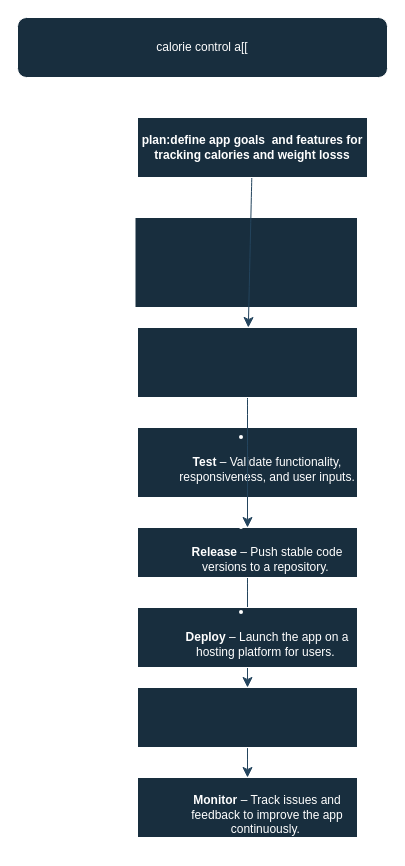
This 405x866 diagram has some shape labels left out. The shapes that lost their labels are listed below. From the top down, each one's centre as x and y in pixels, then its label:
At (x=246, y=262): "Develop – Write HTML and CSS code to build the user interface.".
At (x=247, y=362): "Build – Compile and package code for deployment readiness.".
At (x=247, y=717): "Operate – Monitor app performance and user interactions.".
